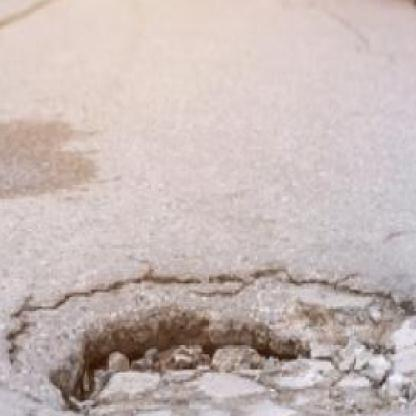pothole: (3, 263, 416, 416)
